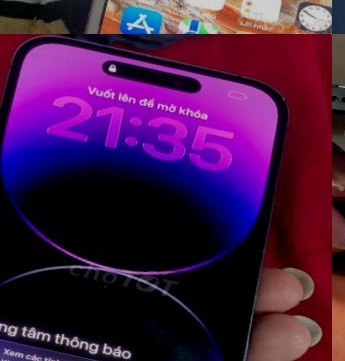scratch: (332, 56, 345, 134)
